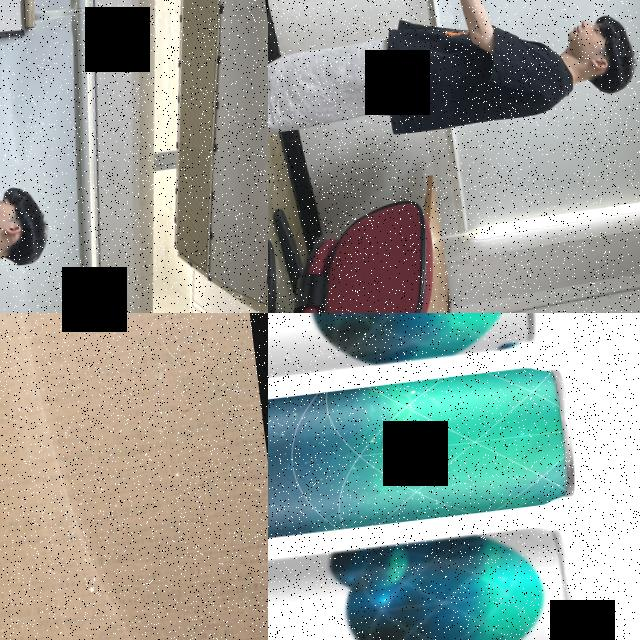can: (268, 360, 577, 561), (268, 521, 578, 640), (268, 313, 541, 399)
